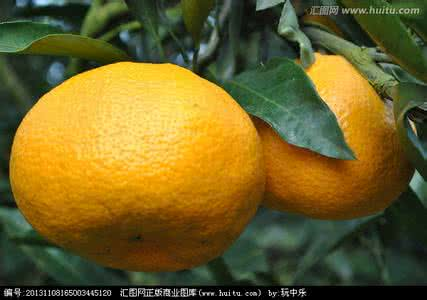orange: (14, 56, 271, 267), (239, 40, 415, 222)
